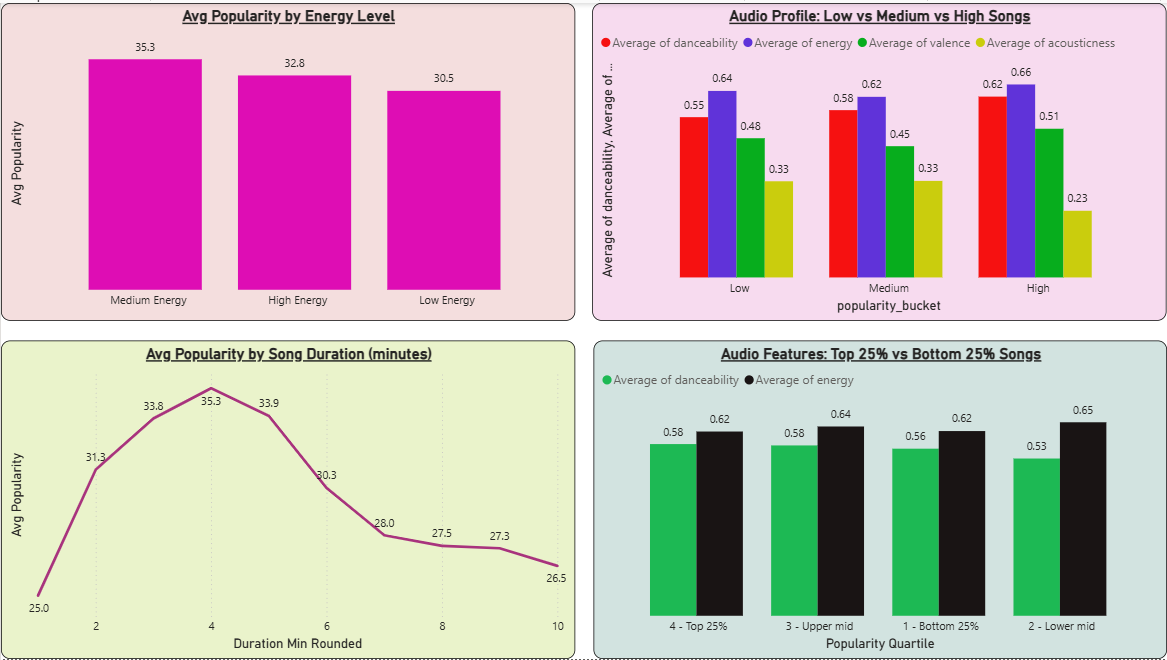

The page's visual inventory and layout, read from the dashboard file:
{"tool":"powerbi","page":{"name":"Audio Features","canvas":[1280,720],"ordinal":2},"visuals":[{"type":"clusteredColumnChart","title":"Avg Popularity by Energy Level","fields":{"Category":["tracks_unique.Energy Level"],"Y":["tracks_unique.Avg Pop"]},"box":[0,0,630,349],"z":0},{"type":"clusteredColumnChart","title":"Audio Profile: Low vs Medium vs High Songs","fields":{"Category":["tracks_unique.popularity_bucket"],"Y":["Avg(tracks_unique.danceability)","Avg(tracks_unique.energy)","Avg(tracks_unique.valence)","Avg(tracks_unique.acousticness)"]},"box":[649.1,0,630,349],"z":1000},{"type":"lineChart","title":"Avg Popularity by Song Duration (minutes)","fields":{"Category":["tracks_unique.Duration Min Rounded"],"Y":["tracks_unique.Avg Pop"]},"box":[0,370.5,630,349.9],"z":2000},{"type":"clusteredColumnChart","title":"Audio Features: Top 25% vs Bottom 25% Songs","fields":{"Category":["tracks_unique.Popularity Quartile"],"Y":["Avg(tracks_unique.danceability)","Avg(tracks_unique.energy)"]},"box":[650.4,370.5,629.8,349.9],"z":3000}]}

Visuals, with their boxes in screenshot pixels (x1, y1, x2, y2), scaled from the page's 1280x720 canvas onto the 1167x660 screenshot:
"Avg Popularity by Energy Level" clusteredColumnChart: x1=0, y1=0, x2=574, y2=320
"Audio Profile: Low vs Medium vs High Songs" clusteredColumnChart: x1=592, y1=0, x2=1166, y2=320
"Avg Popularity by Song Duration (minutes)" lineChart: x1=0, y1=340, x2=574, y2=659
"Audio Features: Top 25% vs Bottom 25% Songs" clusteredColumnChart: x1=593, y1=340, x2=1166, y2=659
